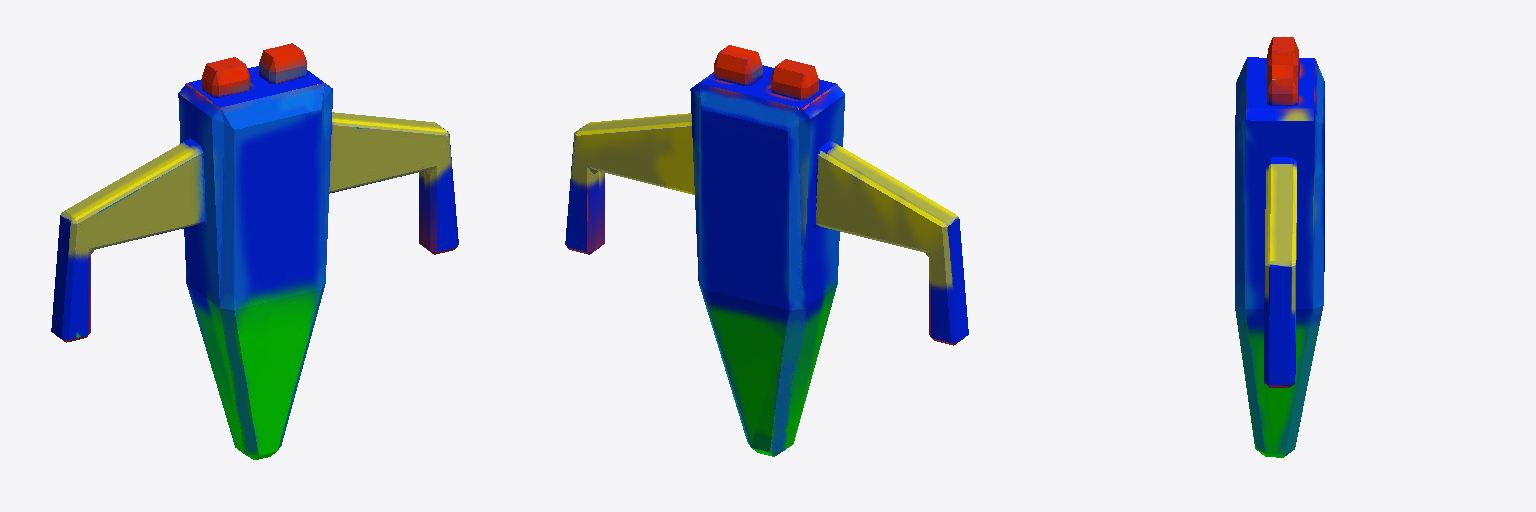
The picture shows the model from 3 angles: view 1: azimuth 30°, elevation 25°; view 2: azimuth 150°, elevation 25°; view 3: azimuth 270°, elevation 25°; orthographic projection.
Parts seen in each view (by area): view 1: pCube1_Untitled; view 2: pCube1_Untitled; view 3: pCube1_Untitled.
Part boxes in pixels (left/top/right/bottom): pCube1_Untitled: left=51, top=43, right=458, bottom=459; pCube1_Untitled: left=565, top=45, right=968, bottom=456; pCube1_Untitled: left=1235, top=37, right=1324, bottom=457.
Size of the model in its own units: 2.67 by 2.55 by 0.5307.
1 materials, 1 textured.